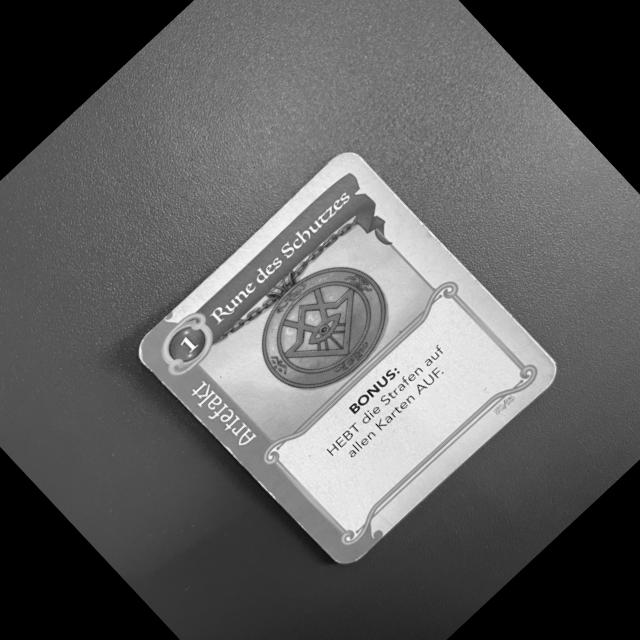Rune Of Protection: (130, 144, 569, 575)
